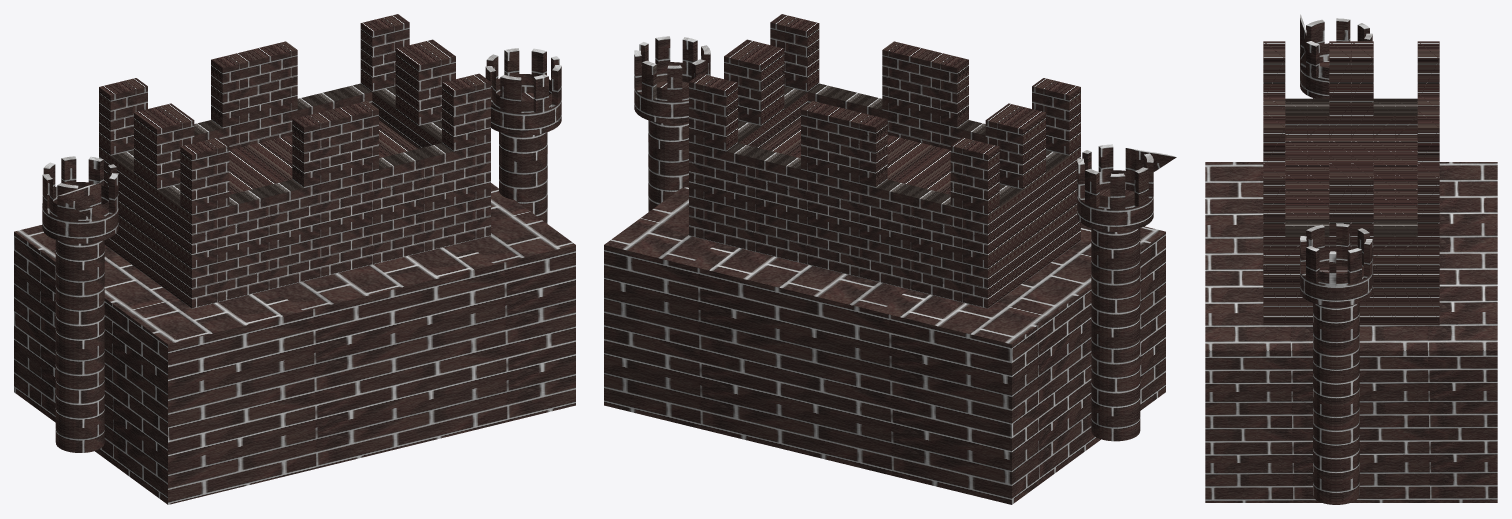
The model's file is castle_real.obj.
3 views of the same model, side by side, from view 1: azimuth 30°, elevation 25°; view 2: azimuth 150°, elevation 25°; view 3: azimuth 270°, elevation 25° (orthographic). The views are drawn at different scales.
Visible parts, largest first — view 1: 立方体.004; view 2: 立方体.004; view 3: 立方体.004.
Boxes of the visible parts, x1=… form: 立方体.004: x1=14, y1=14, x2=575, y2=504; 立方体.004: x1=604, y1=14, x2=1176, y2=504; 立方体.004: x1=1205, y1=14, x2=1497, y2=504.
Size of the model in its own units: 203 by 117 by 104.
Materials: 4 (4 with a texture image).
